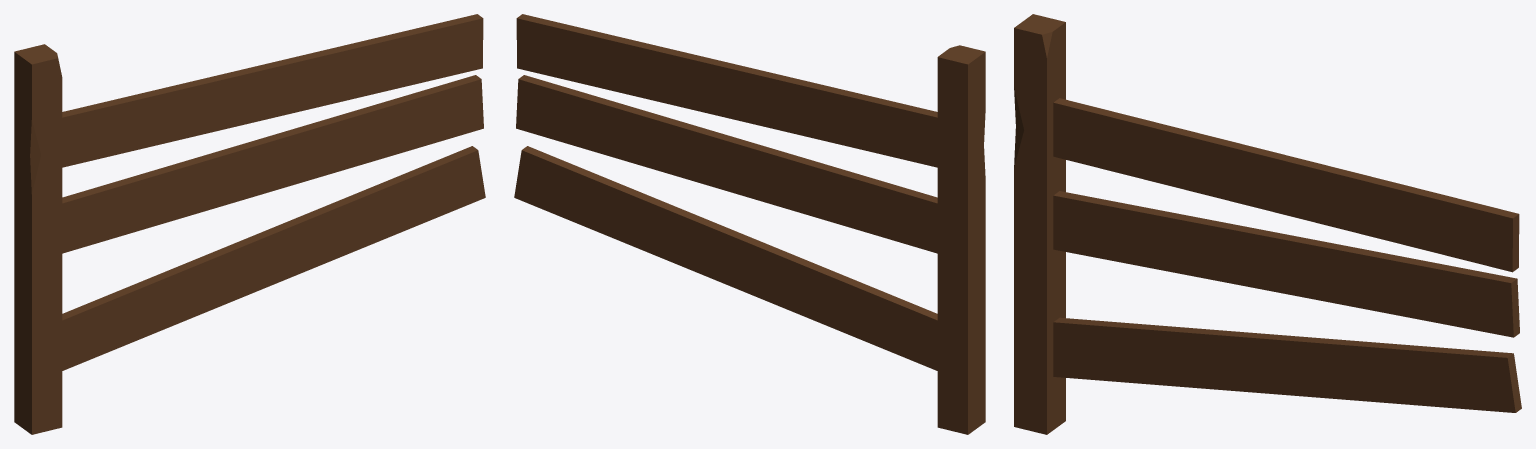
Rendered from fence05.fbx.
3 views of the same model, side by side, from view 1: azimuth 30°, elevation 25°; view 2: azimuth 150°, elevation 25°; view 3: azimuth 330°, elevation 25° (orthographic). The views are drawn at different scales.
Visible parts, largest first — view 1: fence05; view 2: fence05; view 3: fence05.
Part boxes in pixels (x1,y1,x2,y2): fence05: (14,14,485,434); fence05: (514,14,985,434); fence05: (1014,14,1521,434).
Bounding box in the file's own units: 203 × 156 × 13.52.
